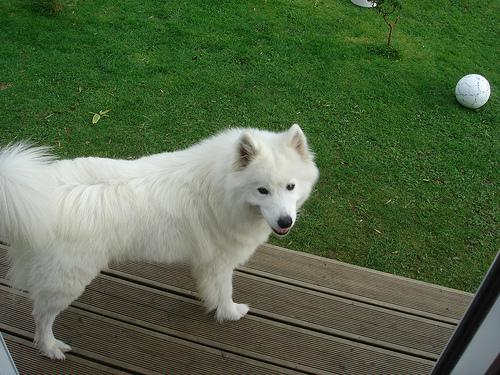dog-samoyed: (233, 123, 311, 236)
